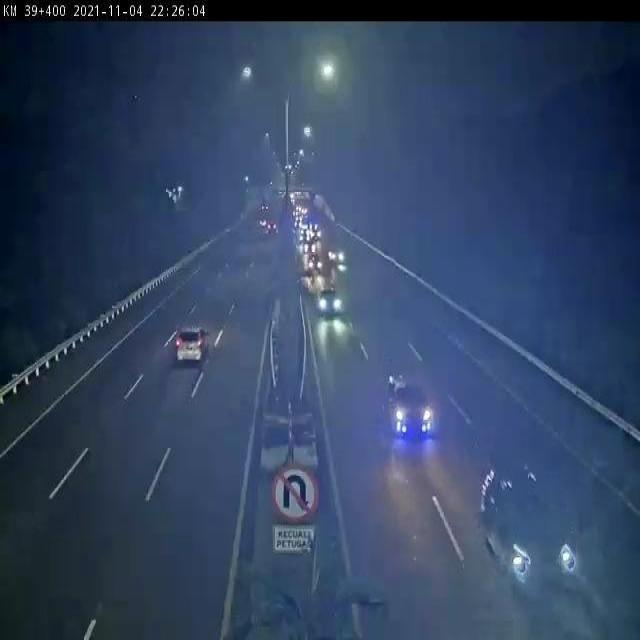Car: (480, 462, 577, 595), (388, 373, 435, 439), (175, 327, 210, 362), (318, 286, 342, 314), (307, 252, 322, 274), (266, 222, 278, 234)
